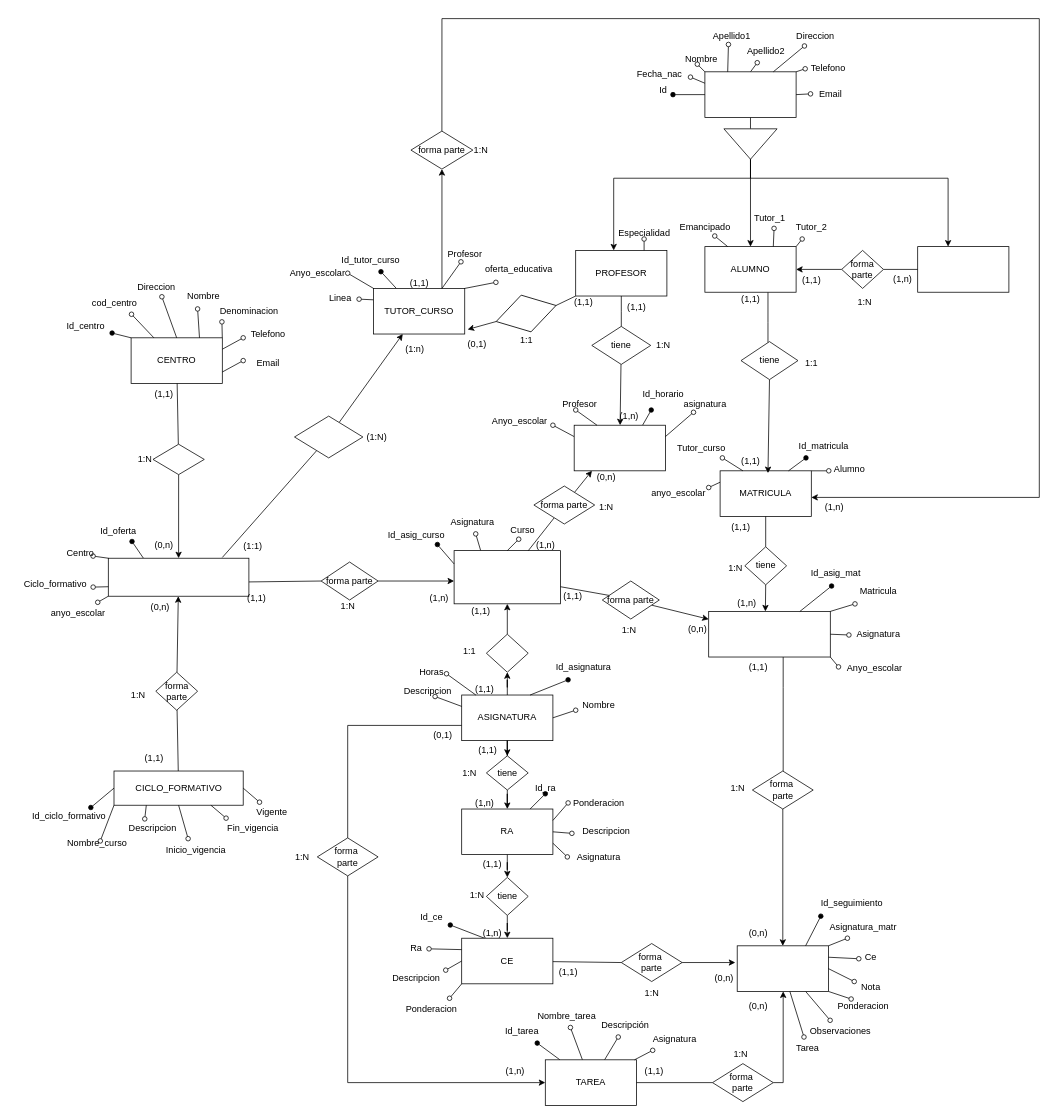
The diagram is 1059 pixels wide and 1119 high, and some of its shapes have lost their labels. Each missing label, with the centre of its shape:
ASIGNATURA_CURSO: point 506,577
ASIGNATURA_MATRICULA: point 769,634
compuesta por: point 328,436
es: point 525,313
HORARIO_PROF: point 619,447
OFERTA_EDUCATIVA_CENTRO: point 178,576
PERSONA: point 750,94
posee: point 178,459
se asigna: point 507,652
SEGUIMIENTO: point 782,968
TUTOR_LEGAL: point 963,269
